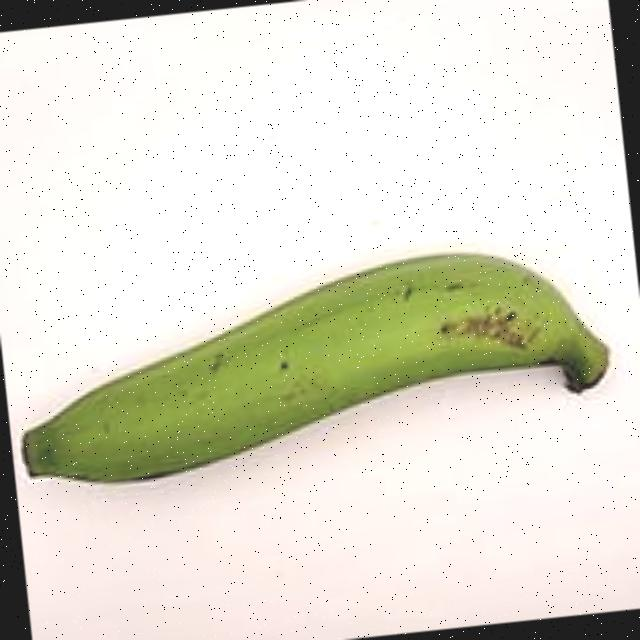Raw: (0, 192, 640, 541)
